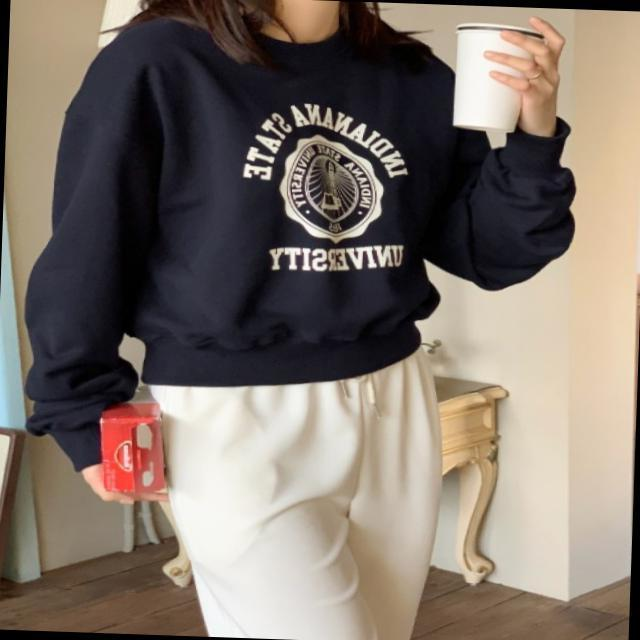sweater: (23, 12, 577, 473)
trousers: (141, 348, 440, 640)
